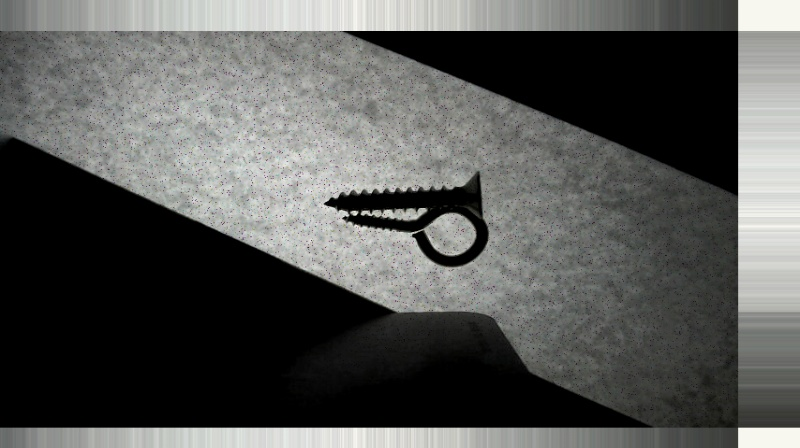O001: (341, 202, 487, 265)
S001: (322, 168, 485, 218)
